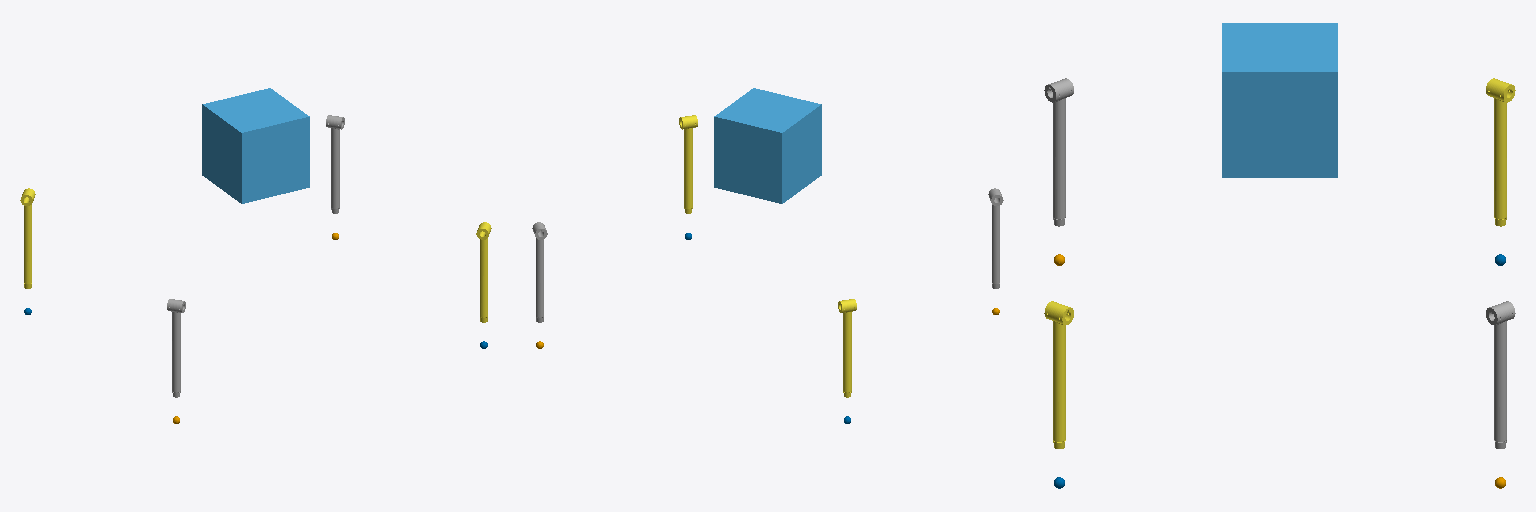
--- Render facts (derived) ---
Views: 3 orthographic renders of the robot side by side, from view 1: azimuth 30°, elevation 25°; view 2: azimuth 150°, elevation 25°; view 3: azimuth 270°, elevation 25°.
Model legged_robot with 18 links and 17 joints (12 revolute, 5 fixed), rooted at base_link, posed every joint at zero.
Visible links, largest first — view 1: Vision_sensor1, L2_Link3, L4_Link3, L3_Link3, L1_Link3; view 2: Vision_sensor1, L3_Link3, L1_Link3, L2_Link3, L4_Link3; view 3: Vision_sensor1, L1_Link3, L4_Link3, L2_Link3, L3_Link3.
Boxes of the visible links, bbox=[...] form: Vision_sensor1: bbox=[202, 88, 309, 203]; L2_Link3: bbox=[326, 115, 344, 213]; L4_Link3: bbox=[167, 299, 185, 397]; L3_Link3: bbox=[476, 222, 491, 322]; L1_Link3: bbox=[20, 188, 35, 288]; Vision_sensor1: bbox=[714, 88, 821, 203]; L3_Link3: bbox=[679, 115, 697, 213]; L1_Link3: bbox=[838, 299, 856, 397]; L2_Link3: bbox=[532, 222, 547, 322]; L4_Link3: bbox=[988, 188, 1003, 288]; Vision_sensor1: bbox=[1222, 23, 1337, 177]; L1_Link3: bbox=[1486, 78, 1515, 226]; L4_Link3: bbox=[1044, 78, 1073, 226]; L2_Link3: bbox=[1486, 301, 1515, 448]; L3_Link3: bbox=[1044, 301, 1073, 448].
Size in the robot's own frame: 0.7166 by 0.6064 by 0.4672 metres.
Meshes: 4 distinct files referenced, 4 mesh visuals loaded (1 ASCII STL); not drawn: 9 (reference not matched to a file when rendering).

The robot description file, URDF, robot "legged_robot":
<?xml version="1.0"?>
<robot name="legged_robot">

<link name="base_link">
  <visual>
    <geometry>
      <mesh filename ="package://fourleg_gazebo/meshes/model/stl/baseframe.stl" scale= "0.001 0.001 0.001"/>
    </geometry>
    <material name="white"/>
  </visual>
  <collision>
    <geometry>
      <mesh filename ="package://fourleg_gazebo/meshes/model/stl/baseframe.stl" scale= "0.001 0.001 0.001"/>
    </geometry>
  </collision>
  <inertial>
    <mass value="5.6631"/>
    <inertia  ixx="0.04448978" ixy="0.0"  ixz="0.0"  iyy="0.07870660"  iyz="0.0"  izz="0.05785604"/>
  </inertial>
  <origin xyz="0 0 0" rpy="0 0 0"/>
</link>

  <gazebo reference="base_link">
    <kp>1000000.0</kp>
    <kd>1000000.0</kd>
    <mu1>150.0</mu1>
    <mu2>150.0</mu2>
    <material>Gazebo/white</material>
  </gazebo>

  <link name="L1_Link1">
    <visual>
      <geometry>
        <mesh filename ="package://fourleg_gazebo/meshes/model/stl/link1.stl" scale= "0.001 0.001 0.001"/>
      </geometry>
      <material name="grey"/>
    </visual>
    <collision>
      <geometry>
        <mesh filename ="package://fourleg_gazebo/meshes/model/stl/link1.stl" scale= "0.001 0.001 0.001"/>
      </geometry>
    </collision>
    <inertial>
      <mass value="0.23986"/>
      <inertia  ixx="0.00198" ixy="0"  ixz="0"  iyy="0.00058"  iyz="-0.00039"  izz="0.00169"/>
    </inertial>
    <origin xyz="0 0 0." rpy="0 0 0"/>
  </link>

  <gazebo reference="L1_Link1">
    <kp>1000000.0</kp>
    <kd>1000000.0</kd>
    <mu1>100.0</mu1>
    <mu2>100.0</mu2>
    <material>Gazebo/Grey</material>
  </gazebo>

  <link name="L1_Link2">
    <visual>
      <geometry>
        <mesh filename ="package://fourleg_gazebo/meshes/model/stl/link2.stl" scale= "0.001 0.001 0.001"/>
      </geometry>
      <material name="grey"/>
    </visual>
    <collision>
      <geometry>
        <mesh filename ="package://fourleg_gazebo/meshes/model/stl/link2.stl" scale= "0.001 0.001 0.001"/>
      </geometry>
    </collision>
    <inertial>
      <mass value="0.70877"/>
      <inertia  ixx="0.00841" ixy="0"  ixz="0"  iyy="0.00103"  iyz="-0.00144"  izz="0.00857"/>
    </inertial>
    <origin xyz="0 0 0" rpy="0 0 0"/>
  </link>

  <gazebo reference="L1_Link2">
    <kp>1000000.0</kp>
    <kd>1000000.0</kd>
    <mu1>100.0</mu1>
    <mu2>100.0</mu2>
    <material>Gazebo/Grey</material>
  </gazebo>

  <link name="L1_Link3">
    <visual>
      <geometry>
        <mesh filename ="package://fourleg_gazebo/meshes/model/stl/link3.stl" scale= "0.001 0.001 0.001"/>
      </geometry>
      <material name="grey"/>
    </visual>
    <collision>
      <geometry>
        <mesh filename ="package://fourleg_gazebo/meshes/model/stl/link3.stl" scale= "0.001 0.001 0.001"/>
      </geometry>
    </collision>
    <inertial>
      <mass value="0.71348"/>
      <inertia  ixx="0.00641" ixy="-0.00048"  ixz="-0.00017"  iyy="0.00166"  iyz="0.00131"  izz="0.04979"/>
    </inertial>
    <origin xyz="0 0 0" rpy="0 0 0"/>
  </link>

  <gazebo reference="L1_Link3">
    <kp>1000000.0</kp>
    <kd>1000000.0</kd>
    <mu1>100.0</mu1>
    <mu2>100.0</mu2>
    <material>Gazebo/Grey</material>
  </gazebo>

  <link name="L1_contactSensor">
    <inertial>
      <origin xyz="0 0 0" rpy="0 0 0"/>
      <mass value="0.01"/>
      <inertia  ixx="0.00000128" ixy="0"  ixz="0"  iyy="0.00000128"  iyz="0"  izz="0.00000128"/>
    </inertial>
    <visual>
      <origin xyz="0 0 0" rpy="0 0 0"/>
      <geometry>
        <sphere radius ="0.0075"/>
      </geometry>
      <material name="red"/>
    </visual>
    <collision>
      <origin xyz="0 0 0" rpy="0 0 0"/>
      <geometry>
        <sphere radius ="0.0075"/>
      </geometry>
    </collision>
  </link>

  <gazebo reference="L1_contactSensor">
    <kp>1000000.0</kp>
    <kd>1000000.0</kd>
    <mu1>50</mu1>
    <mu2>50</mu2>
    <material>Gazebo/Red</material>
  </gazebo>

  <link name="L2_Link1">
    <visual>
      <geometry>
        <mesh filename ="package://fourleg_gazebo/meshes/model/stl/link1.stl" scale= "0.001 0.001 0.001"/>
      </geometry>
      <material name="grey"/>
    </visual>
    <collision>
      <geometry>
        <mesh filename ="package://fourleg_gazebo/meshes/model/stl/link1.stl" scale= "0.001 0.001 0.001"/>
      </geometry>
    </collision>
    <inertial>
      <mass value="0.23986"/>
      <inertia  ixx="0.00198" ixy="0"  ixz="0"  iyy="0.00058"  iyz="-0.00039"  izz="0.00169"/>
    </inertial>
    <origin xyz="0 0 0." rpy="0 0 0"/>
  </link>

  <gazebo reference="L2_Link1">
    <kp>1000000.0</kp>
    <kd>1000000.0</kd>
    <mu1>100.0</mu1>
    <mu2>100.0</mu2>
    <material>Gazebo/Grey</material>
  </gazebo>

  <link name="L2_Link2">
    <visual>
      <geometry>
        <mesh filename ="package://fourleg_gazebo/meshes/model/stl/link2.stl" scale= "0.001 0.001 0.001"/>
      </geometry>
      <material name="grey"/>
    </visual>
    <collision>
      <geometry>
        <mesh filename ="package://fourleg_gazebo/meshes/model/stl/link2.stl" scale= "0.001 0.001 0.001"/>
      </geometry>
    </collision>
    <inertial>
      <mass value="0.70877"/>
      <inertia  ixx="0.00841" ixy="0"  ixz="0"  iyy="0.00103"  iyz="-0.00144"  izz="0.00857"/>
    </inertial>
    <origin xyz="0 0 0" rpy="0 0 0"/>
  </link>

  <gazebo reference="L2_Link2">
    <kp>1000000.0</kp>
    <kd>1000000.0</kd>
    <mu1>100.0</mu1>
    <mu2>100.0</mu2>
    <material>Gazebo/Grey</material>
  </gazebo>

  <link name="L2_Link3">
    <visual>
      <geometry>
        <mesh filename ="package://fourleg_gazebo/meshes/model/stl/link3.stl" scale= "0.001 0.001 0.001"/>
      </geometry>
      <material name="grey"/>
    </visual>
    <collision>
      <geometry>
        <mesh filename ="package://fourleg_gazebo/meshes/model/stl/link3.stl" scale= "0.001 0.001 0.001"/>
      </geometry>
    </collision>
    <inertial>
      <mass value="0.71348"/>
      <inertia  ixx="0.00641" ixy="-0.00048"  ixz="-0.00017"  iyy="0.00166"  iyz="0.00131"  izz="0.04979"/>
    </inertial>
    <origin xyz="0 0 0" rpy="0 0 0"/>
  </link>

  <gazebo reference="L2_Link3">
    <kp>1000000.0</kp>
    <kd>1000000.0</kd>
    <mu1>100.0</mu1>
    <mu2>100.0</mu2>
    <material>Gazebo/Grey</material>
  </gazebo>

  <link name="L2_contactSensor">
    <inertial>
      <origin xyz="0 0 0" rpy="0 0 0"/>
      <mass value="0.01"/>
      <inertia  ixx="0.00000128" ixy="0"  ixz="0"  iyy="0.00000128"  iyz="0"  izz="0.00000128"/>
    </inertial>
    <visual>
      <origin xyz="0 0 0" rpy="0 0 0"/>
      <geometry>
        <sphere radius ="0.0075"/>
      </geometry>
      <material name="red"/>
    </visual>
    <collision>
      <origin xyz="0 0 0" rpy="0 0 0"/>
      <geometry>
        <sphere radius ="0.0075"/>
      </geometry>
    </collision>
  </link>

  <gazebo reference="L2_contactSensor">
    <kp>1000000.0</kp>
    <kd>1000000.0</kd>
    <mu1>50</mu1>
    <mu2>50</mu2>
    <material>Gazebo/Red</material>
  </gazebo>

  <link name="L3_Link1">
    <visual>
      <geometry>
        <mesh filename ="package://fourleg_gazebo/meshes/model/stl/link1.stl" scale= "0.001 0.001 0.001"/>
      </geometry>
      <material name="grey"/>
    </visual>
    <collision>
      <geometry>
        <mesh filename ="package://fourleg_gazebo/meshes/model/stl/link1.stl" scale= "0.001 0.001 0.001"/>
      </geometry>
    </collision>
    <inertial>
      <mass value="0.23986"/>
      <inertia  ixx="0.00198" ixy="0"  ixz="0"  iyy="0.00058"  iyz="-0.00039"  izz="0.00169"/>
    </inertial>
    <origin xyz="0 0 0." rpy="0 0 0"/>
  </link>

  <gazebo reference="L3_Link1">
    <kp>1000000.0</kp>
    <kd>1000000.0</kd>
    <mu1>100.0</mu1>
    <mu2>100.0</mu2>
    <material>Gazebo/Grey</material>
  </gazebo>

  <link name="L3_Link2">
    <visual>
      <geometry>
        <mesh filename ="package://fourleg_gazebo/meshes/model/stl/link2.stl" scale= "0.001 0.001 0.001"/>
      </geometry>
      <material name="grey"/>
    </visual>
    <collision>
      <geometry>
        <mesh filename ="package://fourleg_gazebo/meshes/model/stl/link2.stl" scale= "0.001 0.001 0.001"/>
      </geometry>
    </collision>
    <inertial>
      <mass value="0.70877"/>
      <inertia  ixx="0.00841" ixy="0"  ixz="0"  iyy="0.00103"  iyz="-0.00144"  izz="0.00857"/>
    </inertial>
    <origin xyz="0 0 0" rpy="0 0 0"/>
  </link>

  <gazebo reference="L3_Link2">
    <kp>1000000.0</kp>
    <kd>1000000.0</kd>
    <mu1>100.0</mu1>
    <mu2>100.0</mu2>
    <material>Gazebo/Grey</material>
  </gazebo>

  <link name="L3_Link3">
    <visual>
      <geometry>
        <mesh filename ="package://fourleg_gazebo/meshes/model/stl/link3.stl" scale= "0.001 0.001 0.001"/>
      </geometry>
      <material name="grey"/>
    </visual>
    <collision>
      <geometry>
        <mesh filename ="package://fourleg_gazebo/meshes/model/stl/link3.stl" scale= "0.001 0.001 0.001"/>
      </geometry>
    </collision>
    <inertial>
      <mass value="0.71348"/>
      <inertia  ixx="0.00641" ixy="-0.00048"  ixz="-0.00017"  iyy="0.00166"  iyz="0.00131"  izz="0.04979"/>
    </inertial>
    <origin xyz="0 0 0" rpy="0 0 0"/>
  </link>

  <gazebo reference="L3_Link3">
    <kp>1000000.0</kp>
    <kd>1000000.0</kd>
    <mu1>100.0</mu1>
    <mu2>100.0</mu2>
    <material>Gazebo/Grey</material>
  </gazebo>

  <link name="L3_contactSensor">
    <inertial>
      <origin xyz="0 0 0" rpy="0 0 0"/>
      <mass value="0.01"/>
      <inertia  ixx="0.00000128" ixy="0"  ixz="0"  iyy="0.00000128"  iyz="0"  izz="0.00000128"/>
    </inertial>
    <visual>
      <origin xyz="0 0 0" rpy="0 0 0"/>
      <geometry>
        <sphere radius ="0.0075"/>
      </geometry>
      <material name="red"/>
    </visual>
    <collision>
      <origin xyz="0 0 0" rpy="0 0 0"/>
      <geometry>
        <sphere radius ="0.0075"/>
      </geometry>
    </collision>
  </link>

  <gazebo reference="L3_contactSensor">
    <kp>1000000.0</kp>
    <kd>1000000.0</kd>
    <mu1>50</mu1>
    <mu2>50</mu2>
    <material>Gazebo/Red</material>
  </gazebo>

  <link name="L4_Link1">
    <visual>
      <geometry>
        <mesh filename ="package://fourleg_gazebo/meshes/model/stl/link1.stl" scale= "0.001 0.001 0.001"/>
      </geometry>
      <material name="grey"/>
    </visual>
    <collision>
      <geometry>
        <mesh filename ="package://fourleg_gazebo/meshes/model/stl/link1.stl" scale= "0.001 0.001 0.001"/>
      </geometry>
    </collision>
    <inertial>
      <mass value="0.23986"/>
      <inertia  ixx="0.00198" ixy="0"  ixz="0"  iyy="0.00058"  iyz="-0.00039"  izz="0.00169"/>
    </inertial>
    <origin xyz="0 0 0." rpy="0 0 0"/>
  </link>

  <gazebo reference="L4_Link1">
    <kp>1000000.0</kp>
    <kd>1000000.0</kd>
    <mu1>100.0</mu1>
    <mu2>100.0</mu2>
    <material>Gazebo/Grey</material>
  </gazebo>

  <link name="L4_Link2">
    <visual>
      <geometry>
        <mesh filename ="package://fourleg_gazebo/meshes/model/stl/link2.stl" scale= "0.001 0.001 0.001"/>
      </geometry>
      <material name="grey"/>
    </visual>
    <collision>
      <geometry>
        <mesh filename ="package://fourleg_gazebo/meshes/model/stl/link2.stl" scale= "0.001 0.001 0.001"/>
      </geometry>
    </collision>
    <inertial>
      <mass value="0.70877"/>
      <inertia  ixx="0.00841" ixy="0"  ixz="0"  iyy="0.00103"  iyz="-0.00144"  izz="0.00857"/>
    </inertial>
    <origin xyz="0 0 0" rpy="0 0 0"/>
  </link>

  <gazebo reference="L4_Link2">
    <kp>1000000.0</kp>
    <kd>1000000.0</kd>
    <mu1>100.0</mu1>
    <mu2>100.0</mu2>
    <material>Gazebo/Grey</material>
  </gazebo>

  <link name="L4_Link3">
    <visual>
      <geometry>
        <mesh filename ="package://fourleg_gazebo/meshes/model/stl/link3.stl" scale= "0.001 0.001 0.001"/>
      </geometry>
      <material name="grey"/>
    </visual>
    <collision>
      <geometry>
        <mesh filename ="package://fourleg_gazebo/meshes/model/stl/link3.stl" scale= "0.001 0.001 0.001"/>
      </geometry>
    </collision>
    <inertial>
      <mass value="0.71348"/>
      <inertia  ixx="0.00641" ixy="-0.00048"  ixz="-0.00017"  iyy="0.00166"  iyz="0.00131"  izz="0.04979"/>
    </inertial>
    <origin xyz="0 0 0" rpy="0 0 0"/>
  </link>

  <gazebo reference="L4_Link3">
    <kp>1000000.0</kp>
    <kd>1000000.0</kd>
    <mu1>100.0</mu1>
    <mu2>100.0</mu2>
    <material>Gazebo/Grey</material>
  </gazebo>

  <link name="L4_contactSensor">
    <inertial>
      <origin xyz="0 0 0" rpy="0 0 0"/>
      <mass value="0.01"/>
      <inertia  ixx="0.00000128" ixy="0"  ixz="0"  iyy="0.00000128"  iyz="0"  izz="0.00000128"/>
    </inertial>
    <visual>
      <origin xyz="0 0 0" rpy="0 0 0"/>
      <geometry>
        <sphere radius ="0.0075"/>
      </geometry>
      <material name="red"/>
    </visual>
    <collision>
      <origin xyz="0 0 0" rpy="0 0 0"/>
      <geometry>
        <sphere radius ="0.0075"/>
      </geometry>
    </collision>
  </link>

  <gazebo reference="L4_contactSensor">
    <kp>1000000.0</kp>
    <kd>1000000.0</kd>
    <mu1>50</mu1>
    <mu2>50</mu2>
    <material>Gazebo/Red</material>
  </gazebo>

  <link name="Vision_sensor1">
      <visual>
        <origin xyz="0 0 0" rpy="0 0 0"/>
        <geometry>
          <box size="0.15 0.15 0.15"/>
        </geometry>
        <material name = "Red"/>
      </visual>
      <collision>
        <origin xyz="0 0 0" rpy="0 0 0"/>
        <geometry>
          <box size="0.15 0.15 0.15"/>
        </geometry>
      </collision>
      <inertial>
        <origin xyz="0 0 0"/>
        <mass value="0.1"/>
        <inertia ixx="0.001" ixy="0" ixz="0" iyy="0.001" iyz="0" izz="0.001"/>
      </inertial>
  </link>

  <gazebo reference="Vision_sensor1">
    <kp>1000000.0</kp>
    <kd>1000000.0</kd>
    <mu1>50</mu1>
    <mu2>50</mu2>
    <material>Gazebo/Red</material>
  </gazebo>

  <joint name = "leg1_j1" type = "revolute">
    <origin xyz="-0.1536 0.1285 0.0" rpy="0 0 2.444936344"/>
    <parent link="base_link"/>
    <child link="L1_Link1"/>
    <limit effort="1000" lower="-1.2" upper="1.2" velocity="10.0"/>
  <!--limit effort="1000" lower="-0.7853981634" upper="0.7853981634" velocity="10.0"2.444936344/-->
    <axis xyz="0 0 1"/>
  </joint>

  <joint name = "leg1_j2" type = "revolute">
    <origin xyz="0.114 0.0 0.0" rpy="0 2.748893572 0"/>
    <parent link="L1_Link1"/>
    <child link="L1_Link2"/>
    <limit effort="80" lower="-0.5235987756" upper="0.5235987756" velocity="10.0"/>
    <!--limit effort="80" lower="0" upper="0.5235987756" velocity="10.0"/-->
    <axis xyz="0 1 0"/>
  </joint>

  <joint name = "leg1_j3" type = "revolute">
    <origin xyz="-0.138895 0 0" rpy="0 3.534291735 0"/>
    <parent link="L1_Link2"/>
    <child link="L1_Link3"/>
    <limit effort="80" lower="-0.2617993878" upper="0.2" velocity="10.0"/>
    <!--limit effort="80" lower="-0.2617993878" upper="0" velocity="10.0"/-->
    <axis xyz="0.0 1.0 0"/>
  </joint>

  <joint name = "contactSensor1" type = "fixed">
    <origin xyz="0.0 0.0 -0.240902" rpy="0 0 0"/>
    <parent link="L1_Link3"/>
    <child link="L1_contactSensor"/>
  </joint>

  <joint name = "leg2_j1" type = "revolute">
    <origin xyz="0.1536 0.1285 0.0" rpy="0 0 0.6966563098"/>
    <parent link="base_link"/>
    <child link="L2_Link1"/>
    <limit effort="1000" lower="-1.2" upper="1.2" velocity="10.0"/>
  <!--limit effort="1000" lower="-0.7853981634" upper="0.7853981634" velocity="10.0"0.6966563098/-->
    <axis xyz="0 0 1"/>
  </joint>

  <joint name = "leg2_j2" type = "revolute">
    <origin xyz="0.114 0.0 0.0" rpy="0 2.748893572 0"/>
    <parent link="L2_Link1"/>
    <child link="L2_Link2"/>
    <limit effort="80" lower="-0.5235987756" upper="0.5235987756" velocity="10.0"/>
    <!--limit effort="80" lower="0" upper="0.5235987756" velocity="10.0"/-->
    <axis xyz="0 1.0 0"/>
  </joint>

  <joint name = "leg2_j3" type = "revolute">
    <origin xyz="-0.138895 0 0" rpy="0 3.534291735 0"/>
    <parent link="L2_Link2"/>
    <child link="L2_Link3"/>
    <limit effort="80" lower="-0.2617993878" upper="0.2" velocity="10.0"/>
    <!--limit effort="80" lower="-0.2617993878" upper="0" velocity="10.0"/-->
    <axis xyz="0 1 0"/>
  </joint>

  <joint name = "contactSensor2" type = "fixed">
    <origin xyz="0.0 0.0 -0.240902" rpy="0 0 0"/>
    <parent link="L2_Link3"/>
    <child link="L2_contactSensor"/>
  </joint>

  <joint name = "leg3_j1" type = "revolute">
    <origin xyz="0.1536 -0.1285 0.0" rpy="0 0 -0.6966563098"/>
    <parent link="base_link"/>
    <child link="L3_Link1"/>
    <limit effort="1000" lower="-1.2" upper="1.2" velocity="10.0"/>
  <!--limit effort="1000" lower="-0.7853981634" upper="0.7853981634" velocity="10.0"/-0.6966563098-->
    <axis xyz="0 0 1"/>
  </joint>

  <joint name = "leg3_j2" type = "revolute">
    <origin xyz="0.114 0.0 0.0" rpy="0 2.748893572 0"/>
    <parent link="L3_Link1"/>
    <child link="L3_Link2"/>
    <limit effort="80" lower="-0.5235987756" upper="0.5235987756" velocity="10.0"/>
    <!--limit effort="80" lower="0" upper="0.5235987756" velocity="10.0"/-->
    <axis xyz="0 1 0"/>
  </joint>

  <joint name = "leg3_j3" type = "revolute">
    <origin xyz="-0.138895 0 0" rpy="0 3.534291735 0"/>
    <parent link="L3_Link2"/>
    <child link="L3_Link3"/>
    <limit effort="80" lower="-0.2617993878" upper="0.2" velocity="10.0"/>
    <!--limit effort="80" lower="-0.2617993878" upper="0" velocity="10.0"/-->
    <axis xyz="0.0 1.0 0"/>
  </joint>

  <joint name = "contactSensor3" type = "fixed">
    <origin xyz="0.0 0.0 -0.240902" rpy="0 0 0"/>
    <parent link="L3_Link3"/>
    <child link="L3_contactSensor"/>
  </joint>

  <joint name = "leg4_j1" type = "revolute">
    <origin xyz="-0.1536 -0.1285 0.0" rpy="0 0 -2.444936344"/>
    <parent link="base_link"/>
    <child link="L4_Link1"/>
    <limit effort="1000" lower="-1.2" upper="1.2" velocity="10.0"/>
  <!--limit effort="1000" lower="-0.7853981634" upper="0.7853981634" velocity="10.0"-2.444936344/-->
    <axis xyz="0 0 1"/>
  </joint>

  <joint name = "leg4_j2" type = "revolute">
    <origin xyz="0.114 0.0 0.0" rpy="0 2.748893572 0"/>
    <parent link="L4_Link1"/>
    <child link="L4_Link2"/>
    <limit effort="80" lower="-0.5235987756" upper="0.5235987756" velocity="10.0"/>
    <!--limit effort="80" lower="0" upper="0.5235987756" velocity="10.0"/-->
    <axis xyz="0.0 1.0 0"/>
  </joint>

  <joint name = "leg4_j3" type = "revolute">
    <origin xyz="-0.138895 0 0" rpy="0 3.534291735 0"/>
    <parent link="L4_Link2"/>
    <child link="L4_Link3"/>
    <limit effort="80" lower="-0.2617993878" upper="0.2" velocity="10.0"/>
    <!--limit effort="80" lower="-0.2617993878" upper="0" velocity="10.0"/-->
    <axis xyz="0.0 1.0 0.0"/>
  </joint>

  <joint name = "contactSensor4" type = "fixed">
    <origin xyz="0.0 0.0 -0.240902" rpy="0 0 0"/>
    <parent link="L4_Link3"/>
    <child link="L4_contactSensor"/>
  </joint>

  <joint name="cam1" type="fixed">
    <origin xyz="0 0 0.197" rpy="0 0 1.570796327"/>
    <parent link="base_link"/>
    <child link="Vision_sensor1"/>
  </joint>

  <!--                GAZEBO RELATED PART                             -->

    <!-- ROS Control plugin for Gazebo -->
    <gazebo>
      <plugin name="gazebo_ros_control" filename="libgazebo_ros_control.so">
        <robotNamespace>/fourleg</robotNamespace>
        <robotSimType>gazebo_ros_control/DefaultRobotHWSim</robotSimType>
      </plugin>
    </gazebo>

    <!--Robot Odometry-->
    <gazebo>
      <plugin name="p3d_base_controller" filename="libgazebo_ros_p3d.so">
        <alwaysOn>true</alwaysOn>
        <updateRate>50.0</updateRate>
        <bodyName>base_link</bodyName>
        <topicName>odom</topicName>
        <gaussianNoise>0.01</gaussianNoise>
        <frameName>world</frameName>
        <xyzOffsets>0 0 0</xyzOffsets>
        <rpyOffsets>0 0 0</rpyOffsets>
      </plugin>
    </gazebo>

    <!--IMU sensor-->
    <gazebo>
      <plugin name ="gazebo_ros_imu_controller" filename="libgazebo_ros_imu.so">
        <robotNamespace>fourleg</robotNamespace>
        <topicName>imu/data</topicName>
        <serviceName>imu/service</serviceName>
        <bodyName>base_link</bodyName>
        <gaussianNoise>0</gaussianNoise>
        <xyzOffset>0 0 0</xyzOffset>
        <rpyOffset>0 0 0</rpyOffset>
        <updateRate>5.0</updateRate>
        <alwaysOn>true</alwaysOn>
        <gaussianNoise>0</gaussianNoise>
      </plugin>
    </gazebo>

    <!--RGB camera-->
  <!--  <gazebo reference="Vision_sensor1">
  		<sensor name="RGB" type="camera">
  			<update_rate>30.0</update_rate>
  			<visualize>true</visualize>
  			<camera>
  				<horizontal_fov>1.3962</horizontal_fov>
  				<image>
  					<width>800</width>
  					<height>600</height>
  					<format>R8G8B8</format>
  				</image>
  				<clip>
  					<near>0.1</near>
  					<far>10</far>
  				</clip>
  				<noise>
  					<type>gaussian</type>
  					<mean>0.0</mean>
  					<stddev>0.01</stddev>
  				</noise>
  			</camera>
  			<plugin name="rgb_plugin" filename="libgazebo_ros_camera.so">
  				<alwaysOn>true</alwaysOn>
  				<updateRate>30.0</updateRate>
  				<cameraName>/camera</cameraName>
  				<imageTopicName>image_raw</imageTopicName>
  				<cameraInfoTopicName>camera_info</cameraInfoTopicName>
  				<frameName>Vision_sensor1</frameName>
  				<hackBaseline>0.07</hackBaseline>
  				<distortionK1>0.0</distortionK1>
  				<distortionK2>0.0</distortionK2>
  				<distortionK3>0.0</distortionK3>
  				<distortionT1>0.0</distortionT1>
  				<distortionT2>0.0</distortionT2>
  			</plugin>
  		</sensor>
  	</gazebo>-->

    <!-- Depth Camera -->
  	<gazebo reference="Vision_sensor1">
  		<sensor name="Depth" type="depth">
  			<update_rate>0</update_rate>
  			<camera>
  				<horizontal_fov>1.0</horizontal_fov>
  				<image>
  					<width>640</width>
  					<height>480</height>
  					<format>R8G8B8</format>
  				</image>
  				<clip>
  					<near>0.1</near>
  					<far>3</far>
  				</clip>
  				<noise>
  					<type>gaussian</type>
  					<mean>0.0</mean>
  					<stddev>0.01</stddev>
  				</noise>
  			</camera>
  			<plugin name="depth_plugin" filename="libgazebo_ros_openni_kinect.so">
  				<baseline>0.2</baseline>
  				<alwaysOn>true</alwaysOn>
  				<updateRate>30.0</updateRate>
  				<cameraName>/camera</cameraName>
  				<imageTopicName>/camera/depth/image_raw</imageTopicName>
  				<cameraInfoTopicName>/camera/depth/camera_info</cameraInfoTopicName>
  				<depthImageTopicName>/camera/depth/image_raw</depthImageTopicName>
  				<depthImageInfoTopicName>/camera/depth/camera_info</depthImageInfoTopicName>
  				<pointCloudTopicName>/camera/depth/points</pointCloudTopicName>
  				<frameName>Vision_sensor1</frameName>
  				<pointCloudCutoff>0.5</pointCloudCutoff>
  				<pointCloudCutoffMax>3.0</pointCloudCutoffMax>
  				<hackBaseline>0</hackBaseline>
  				<distortionK1>0</distortionK1>
  				<distortionK2>0</distortionK2>
  				<distortionK3>0</distortionK3>
  				<distortionT1>0</distortionT1>
  				<distortionT2>0</distortionT2>
  				<CxPrime>0</CxPrime>
  				<Cx>0</Cx>
  				<Cy>0</Cy>
  				<focalLength>0</focalLength>
  			</plugin>
  		</sensor>
  	</gazebo>

    <!-- transmission -->
    <transmission name="leg1_j1_trans">
      <type>transmission_interface/SimpleTransmission</type>
      <joint name="leg1_j1">
        <hardwareInterface>hardware_interface/PositionJointInterface</hardwareInterface>
      </joint>
      <actuator name="leg1_j1Motor">
        <hardwareInterface>hardware_interface/PositionJointInterface</hardwareInterface>
        <mechanicalReduction>1</mechanicalReduction>
      </actuator>
    </transmission>

    <transmission name="leg1_j2_trans">
      <type>transmission_interface/SimpleTransmission</type>
      <joint name="leg1_j2">
        <hardwareInterface>hardware_interface/PositionJointInterface</hardwareInterface>
      </joint>
      <actuator name="leg1_j2Motor">
        <hardwareInterface>hardware_interface/PositionJointInterface</hardwareInterface>
        <mechanicalReduction>1</mechanicalReduction>
      </actuator>
    </transmission>

    <transmission name="leg1_j3_trans">
      <type>transmission_interface/SimpleTransmission</type>
      <joint name="leg1_j3">
        <hardwareInterface>hardware_interface/PositionJointInterface</hardwareInterface>
      </joint>
      <actuator name="leg1_j3Motor">
        <hardwareInterface>hardware_interface/PositionJointInterface</hardwareInterface>
        <mechanicalReduction>1</mechanicalReduction>
      </actuator>
    </transmission>

    <transmission name="leg2_j1_trans">
      <type>transmission_interface/SimpleTransmission</type>
      <joint name="leg2_j1">
        <hardwareInterface>hardware_interface/PositionJointInterface</hardwareInterface>
      </joint>
      <actuator name="leg2_j1Motor">
        <hardwareInterface>hardware_interface/PositionJointInterface</hardwareInterface>
        <mechanicalReduction>1</mechanicalReduction>
      </actuator>
    </transmission>

    <transmission name="leg2_j2_trans">
      <type>transmission_interface/SimpleTransmission</type>
      <joint name="leg2_j2">
        <hardwareInterface>hardware_interface/PositionJointInterface</hardwareInterface>
      </joint>
      <actuator name="leg2_j2Motor">
        <hardwareInterface>hardware_interface/PositionJointInterface</hardwareInterface>
        <mechanicalReduction>1</mechanicalReduction>
      </actuator>
    </transmission>

    <transmission name="leg2_j3_trans">
      <type>transmission_interface/SimpleTransmission</type>
      <joint name="leg2_j3">
        <hardwareInterface>hardware_interface/PositionJointInterface</hardwareInterface>
      </joint>
      <actuator name="leg2_j3Motor">
        <hardwareInterface>hardware_interface/PositionJointInterface</hardwareInterface>
        <mechanicalReduction>1</mechanicalReduction>
      </actuator>
    </transmission>

    <transmission name="leg3_j1_trans">
      <type>transmission_interface/SimpleTransmission</type>
      <joint name="leg3_j1">
        <hardwareInterface>hardware_interface/PositionJointInterface</hardwareInterface>
      </joint>
      <actuator name="leg3_j1Motor">
        <hardwareInterface>hardware_interface/PositionJointInterface</hardwareInterface>
        <mechanicalReduction>1</mechanicalReduction>
      </actuator>
    </transmission>

    <transmission name="leg3_j2_trans">
      <type>transmission_interface/SimpleTransmission</type>
      <joint name="leg3_j2">
        <hardwareInterface>hardware_interface/PositionJointInterface</hardwareInterface>
      </joint>
      <actuator name="leg3_j2Motor">
        <hardwareInterface>hardware_interface/PositionJointInterface</hardwareInterface>
        <mechanicalReduction>1</mechanicalReduction>
      </actuator>
    </transmission>

    <transmission name="leg3_j3_trans">
      <type>transmission_interface/SimpleTransmission</type>
      <joint name="leg3_j3">
        <hardwareInterface>hardware_interface/PositionJointInterface</hardwareInterface>
      </joint>
      <actuator name="leg3_j3Motor">
        <hardwareInterface>hardware_interface/PositionJointInterface</hardwareInterface>
        <mechanicalReduction>1</mechanicalReduction>
      </actuator>
    </transmission>

    <transmission name="leg4_j1_trans">
      <type>transmission_interface/SimpleTransmission</type>
      <joint name="leg4_j1">
        <hardwareInterface>hardware_interface/PositionJointInterface</hardwareInterface>
      </joint>
      <actuator name="leg4_j1Motor">
        <hardwareInterface>hardware_interface/PositionJointInterface</hardwareInterface>
        <mechanicalReduction>1</mechanicalReduction>
      </actuator>
    </transmission>

    <transmission name="leg4_j2_trans">
      <type>transmission_interface/SimpleTransmission</type>
      <joint name="leg4_j2">
        <hardwareInterface>hardware_interface/PositionJointInterface</hardwareInterface>
      </joint>
      <actuator name="leg4_j2Motor">
        <hardwareInterface>hardware_interface/PositionJointInterface</hardwareInterface>
        <mechanicalReduction>1</mechanicalReduction>
      </actuator>
    </transmission>

    <transmission name="leg4_j3_trans">
      <type>transmission_interface/SimpleTransmission</type>
      <joint name="leg4_j3">
        <hardwareInterface>hardware_interface/PositionJointInterface</hardwareInterface>
      </joint>
      <actuator name="leg4_j3Motor">
        <hardwareInterface>hardware_interface/PositionJointInterface</hardwareInterface>
        <mechanicalReduction>1</mechanicalReduction>
      </actuator>
    </transmission>

    <!-- Contact Sensor -->
   <gazebo reference="L1_contactSensor">
      <sensor name="L1_contactSensor_sensor" type="contact">
        <always_on>true</always_on>
        <contact>
          <collision>L1_contactSensor_collision_collision_1</collision>
        </contact>
        <plugin name="L1_contactSensor_plugin" filename="libgazebo_ros_bumper.so">
          <always_on>true</always_on>
          <update_rate>1000</update_rate>
          <bumperTopicName>L1_contactSensor_state</bumperTopicName>
          <frameName>L1_contactSensor</frameName>
        </plugin>
      </sensor>
    </gazebo>

    <gazebo reference="L2_contactSensor">
      <sensor name="L2_contactSensor_sensor" type="contact">
        <always_on>true</always_on>
        <contact>
          <collision>L2_contactSensor_collision_collision_1</collision>
        </contact>
        <plugin name="L2_contactSensor_plugin" filename="libgazebo_ros_bumper.so">
          <always_on>true</always_on>
          <update_rate>1000</update_rate>
          <bumperTopicName>L2_contactSensor_state</bumperTopicName>
          <frameName>L2_contactSensor</frameName>
        </plugin>
      </sensor>
    </gazebo>

    <gazebo reference="L3_contactSensor">
      <sensor name="L3_contactSensor_sensor" type="contact">
        <always_on>true</always_on>
        <contact>
          <collision>L3_contactSensor_collision_collision_1</collision>
        </contact>
        <plugin name="L1_contactSensor_plugin" filename="libgazebo_ros_bumper.so">
          <always_on>true</always_on>
          <update_rate>1000</update_rate>
          <bumperTopicName>L3_contactSensor_state</bumperTopicName>
          <frameName>L3_contactSensor</frameName>
        </plugin>
      </sensor>
    </gazebo>

    <gazebo reference="L4_contactSensor">
      <sensor name="L4_contactSensor_sensor" type="contact">
        <always_on>true</always_on>
        <contact>
          <collision>L4_contactSensor_collision_collision_1</collision>
        </contact>
        <plugin name="L1_contactSensor_plugin" filename="libgazebo_ros_bumper.so">
          <always_on>true</always_on>
          <update_rate>1000</update_rate>
          <bumperTopicName>L4_contactSensor_state</bumperTopicName>
          <frameName>L4_contactSensor</frameName>
        </plugin>
      </sensor>
    </gazebo>

</robot>
